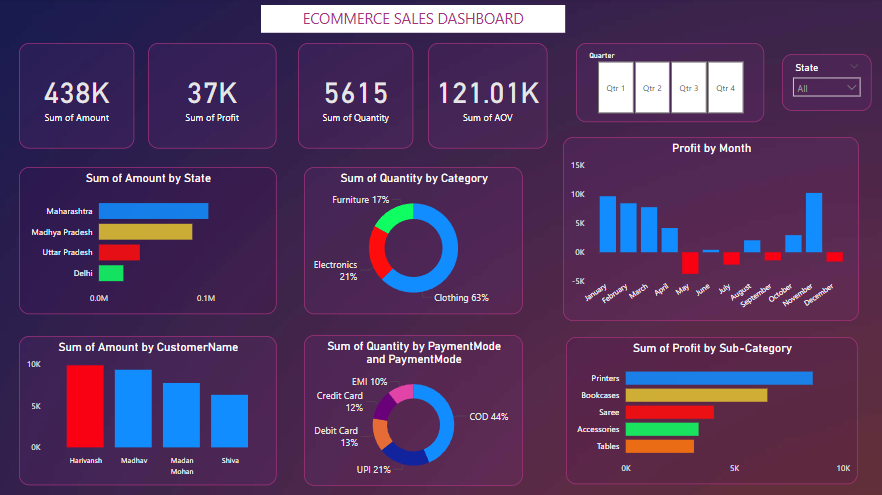

Layout of this report page (visuals, bound fields, positions):
{"tool":"powerbi","page":{"name":"Page 1","canvas":[1280,720],"ordinal":0},"visuals":[{"type":"columnChart","title":"Profit by Month","fields":{"Category":["Orders.Order Date.Variation.Date Hierarchy.Month"],"Y":["Details.Profit"]},"box":[820,200,426.2,264.6],"z":0},{"type":"barChart","fields":{"Category":["Details.Sub-Category"],"Y":["Details.Profit"]},"box":[823.1,487.7,420,212.3],"z":1000},{"type":"donutChart","fields":{"Category":["Details.Category"],"Y":["Details.Quantity"]},"box":[446.2,243.1,315.4,212.3],"z":2000},{"type":"donutChart","fields":{"Series":["Details.PaymentMode"],"Category":["Details.PaymentMode"],"Y":["Details.Quantity"]},"box":[446.2,484.6,315.4,216.9],"z":3000},{"type":"card","fields":{"Values":["Details.Amount"]},"box":[35.4,64.6,166.2,152.3],"z":4000},{"type":"card","fields":{"Values":["Details.Profit"]},"box":[221.5,64.6,184.6,152.3],"z":5000},{"type":"card","fields":{"Values":["Details.AOV"]},"box":[624.6,64.6,172.3,152.3],"z":6000},{"type":"card","fields":{"Values":["Details.Quantity"]},"box":[438.5,64.6,166.2,152.3],"z":7000},{"type":"barChart","fields":{"Category":["Orders.State"],"Y":["Details.Amount"]},"box":[35.4,243.1,370.8,212.3],"z":8000},{"type":"columnChart","fields":{"Category":["Orders.CustomerName"],"Y":["Details.Amount"]},"box":[35.4,486.2,370.8,215.4],"z":9000},{"type":"slicer","fields":{"Values":["Orders.Order Date.Variation.Date Hierarchy.Quarter"]},"box":[838.5,64.6,270.8,113.8],"z":10000},{"type":"slicer","fields":{"Values":["Orders.State"]},"box":[1135.4,80,129.2,81.5],"z":11000},{"type":"textbox","box":[384.6,10.8,438.5,40],"z":12000}]}

Visuals, with their boxes in screenshot pixels (x1, y1, x2, y2), scaled from the page's 1280x720 canvas onto the 882x495 screenshot:
"Profit by Month" columnChart: x1=565, y1=138, x2=859, y2=319
barChart - Details.Sub-Category x Details.Profit: x1=567, y1=335, x2=857, y2=481
donutChart - Details.Category x Details.Quantity: x1=307, y1=167, x2=525, y2=313
donutChart - Details.PaymentMode x Details.PaymentMode: x1=307, y1=333, x2=525, y2=482
card - Details.Amount: x1=24, y1=44, x2=139, y2=149
card - Details.Profit: x1=153, y1=44, x2=280, y2=149
card - Details.AOV: x1=430, y1=44, x2=549, y2=149
card - Details.Quantity: x1=302, y1=44, x2=417, y2=149
barChart - Orders.State x Details.Amount: x1=24, y1=167, x2=280, y2=313
columnChart - Orders.CustomerName x Details.Amount: x1=24, y1=334, x2=280, y2=482
slicer - Orders.Order Date.Variation.Date Hierarchy.Quarter: x1=578, y1=44, x2=764, y2=123
slicer - Orders.State: x1=782, y1=55, x2=871, y2=111
textbox: x1=265, y1=7, x2=567, y2=35
